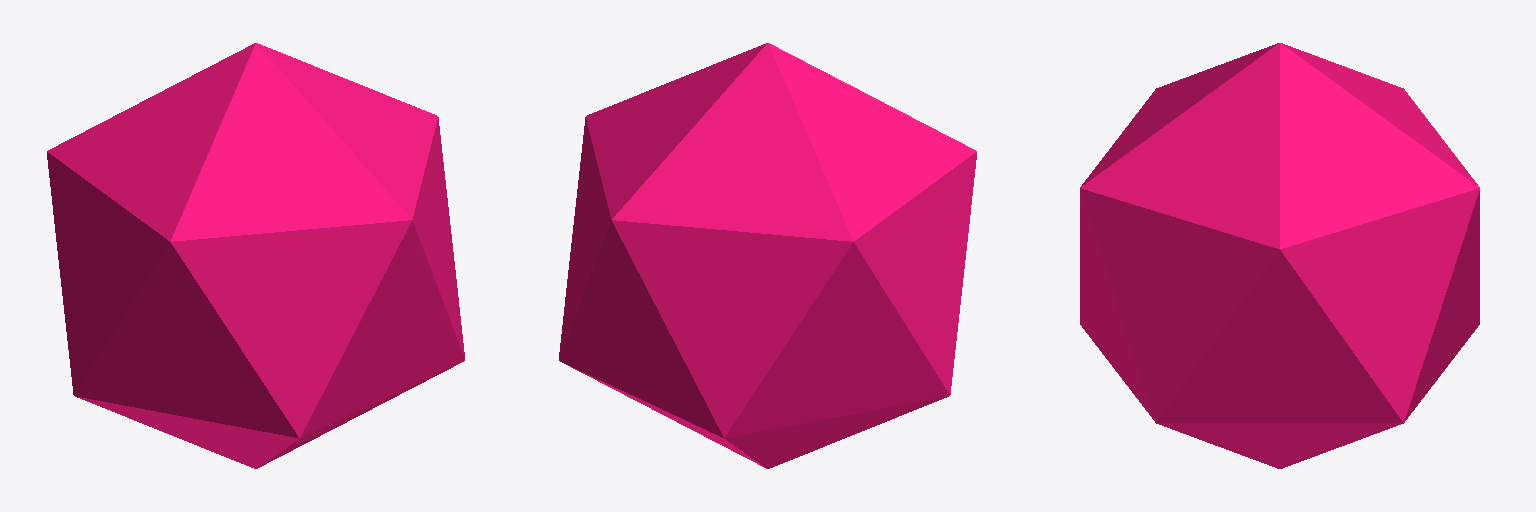
3 renders of one model, left to right at view 1: azimuth 30°, elevation 25°; view 2: azimuth 150°, elevation 25°; view 3: azimuth 270°, elevation 25°, orthographic.
Visible parts, largest first — view 1: ICO球_ICO球.001; view 2: ICO球_ICO球.001; view 3: ICO球_ICO球.001.
Boxes of the visible parts, box(x1,y1,x2,y2) form: ICO球_ICO球.001: box(47, 43, 464, 468); ICO球_ICO球.001: box(559, 43, 976, 468); ICO球_ICO球.001: box(1080, 43, 1479, 468).
Bounding box in the file's own units: 3.58 × 4 × 3.4.